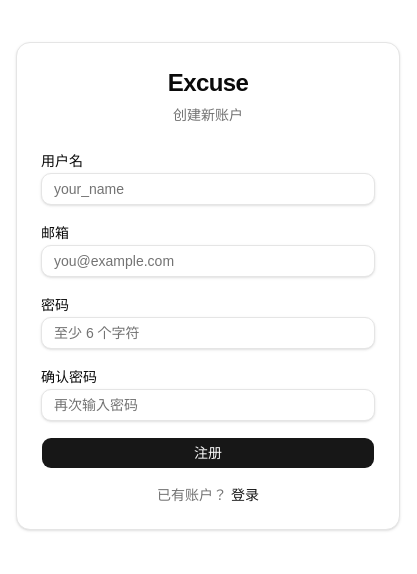
it: register 页面 › 密码不一致时显示错误
Type "testuser" into the field labelled "用户名".
click(208, 189); type("testuser")  # box [41,173,375,205]
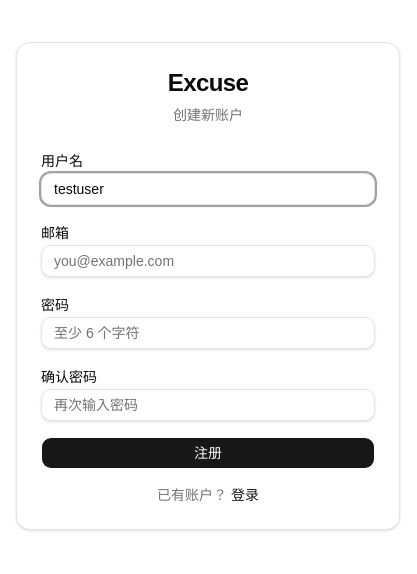
Type "test@example.com" into the field labelled "邮箱".
click(208, 261); type("test@example.com")  # box [41,245,375,277]
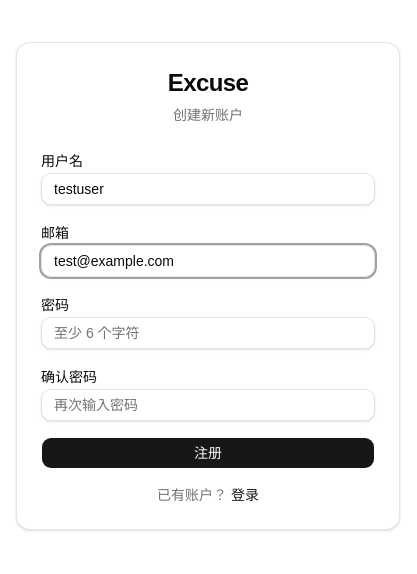
Type "password123" into the password field labelled "密码".
click(208, 333); type("password123")  # box [41,317,375,349]
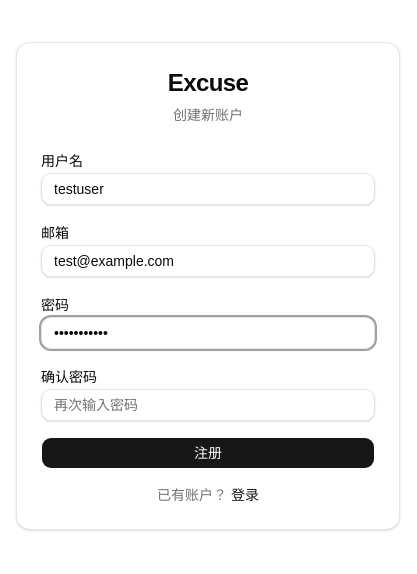
Type "different123" into the password field labelled "确认密码".
click(208, 405); type("different123")  # box [41,389,375,421]
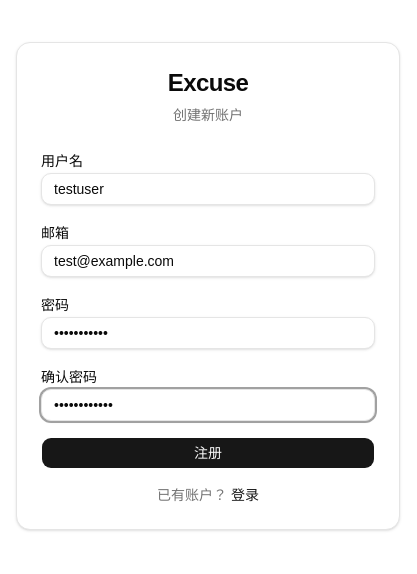
Click the button "注册".
click(208, 453)  # box [41,437,375,469]
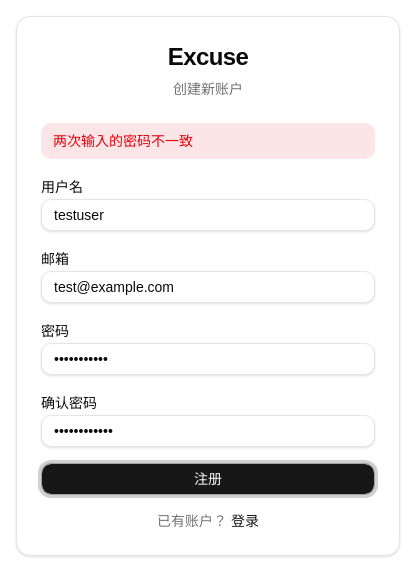
expect the text "两次输入的密码不一致" is shown: met, box [41,123,375,159]
